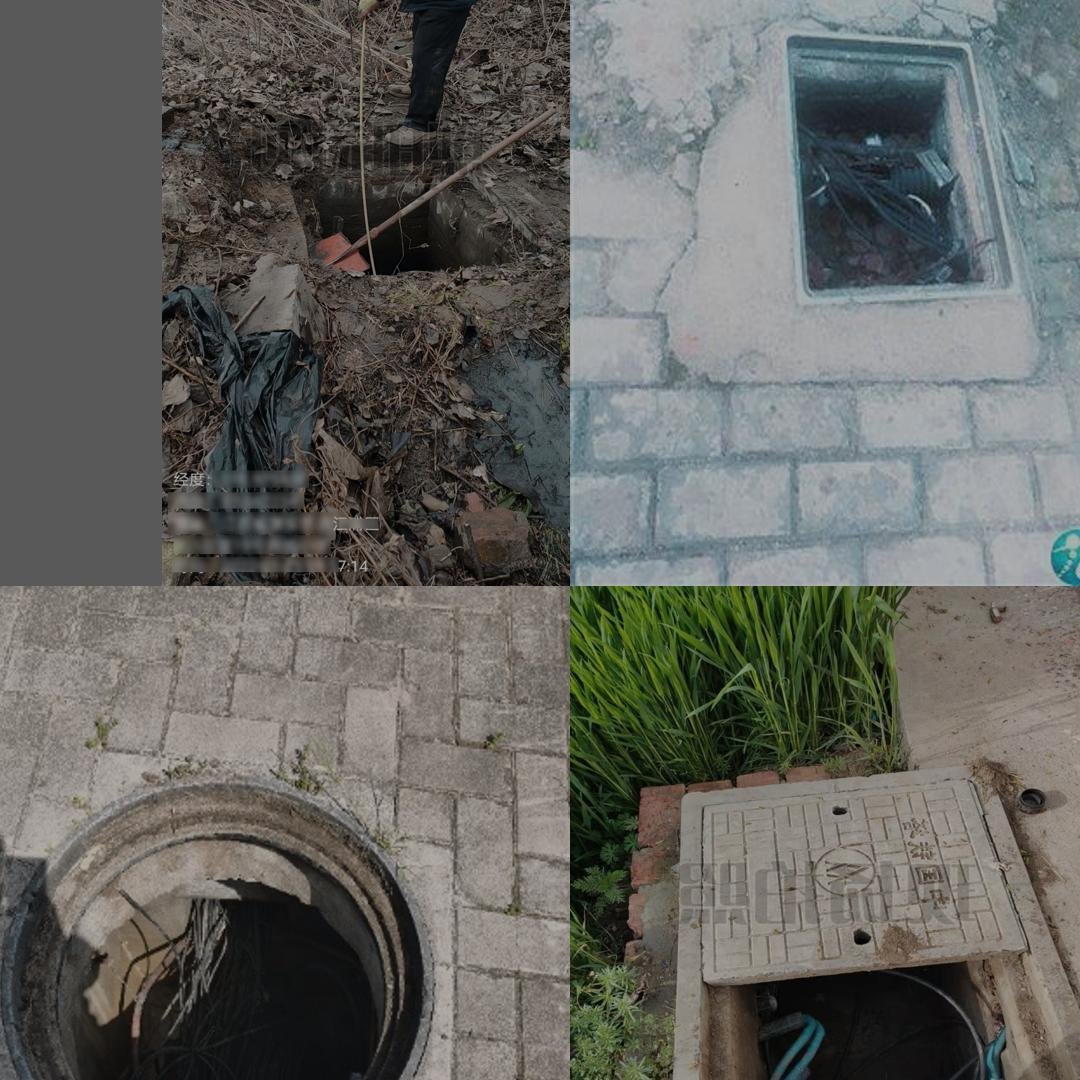lose: (0, 775, 437, 1080), (684, 753, 1058, 1080), (736, 10, 1047, 381), (283, 170, 542, 283)
